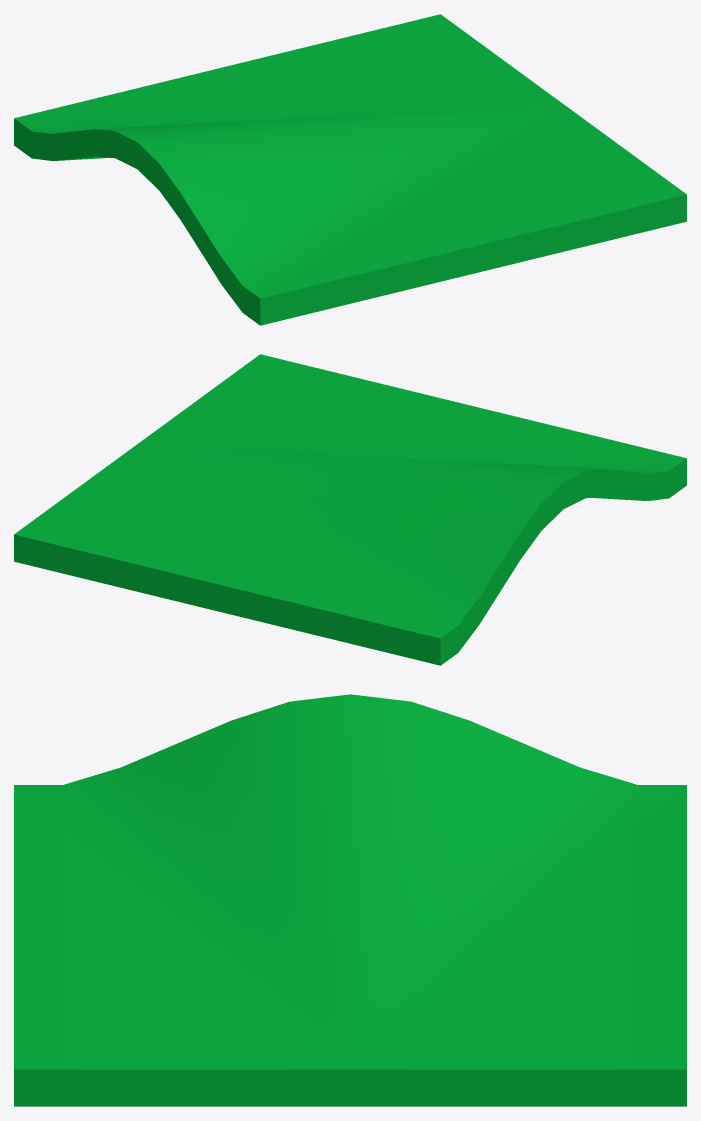
File: basic_sidebend.gltf
3 renders of one model, top to bottom at view 1: azimuth 30°, elevation 25°; view 2: azimuth 150°, elevation 25°; view 3: azimuth 270°, elevation 25°, orthographic. The views are drawn at different scales.
Visible parts, largest first — view 1: basic_sidebend_glb; view 2: basic_sidebend_glb; view 3: basic_sidebend_glb.
Part boxes in pixels (x1,y1,x2,y2): basic_sidebend_glb: (14, 14, 686, 325); basic_sidebend_glb: (14, 354, 686, 665); basic_sidebend_glb: (14, 694, 686, 1106).
Size of what is drawn, in the model's own units: 4 by 0.8385 by 4.
Materials: 1 (1 with a texture image).
